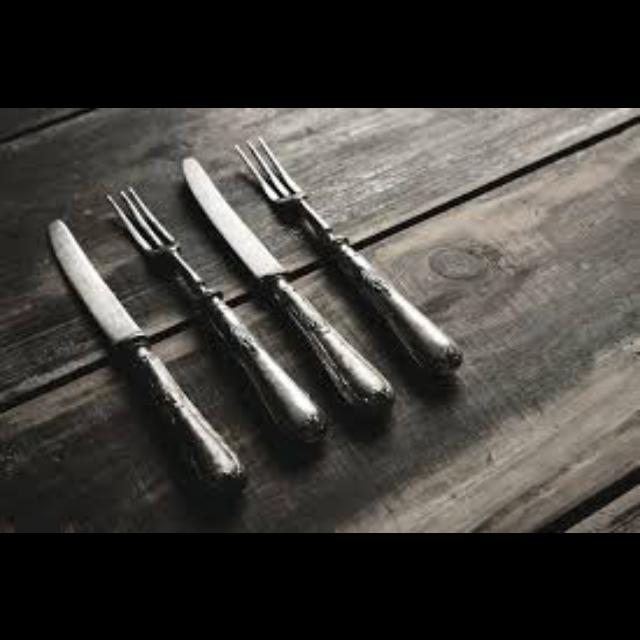Knife: (179, 154, 393, 412), (46, 217, 244, 489)
